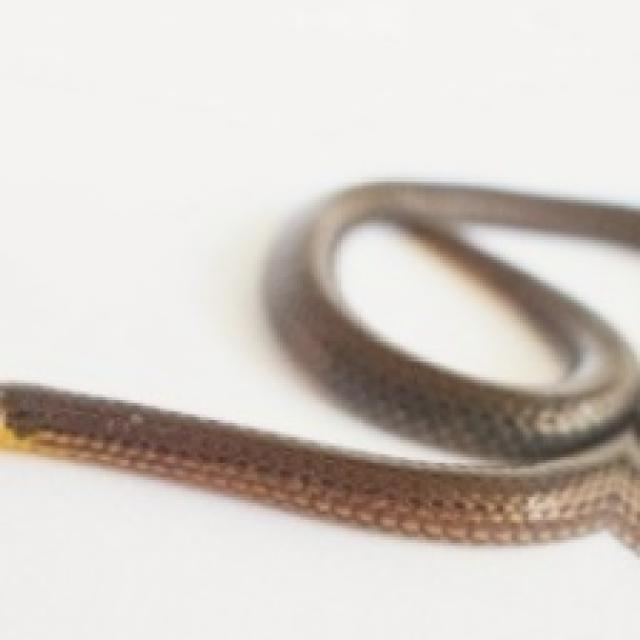gervais worm snake: (0, 183, 637, 549)
